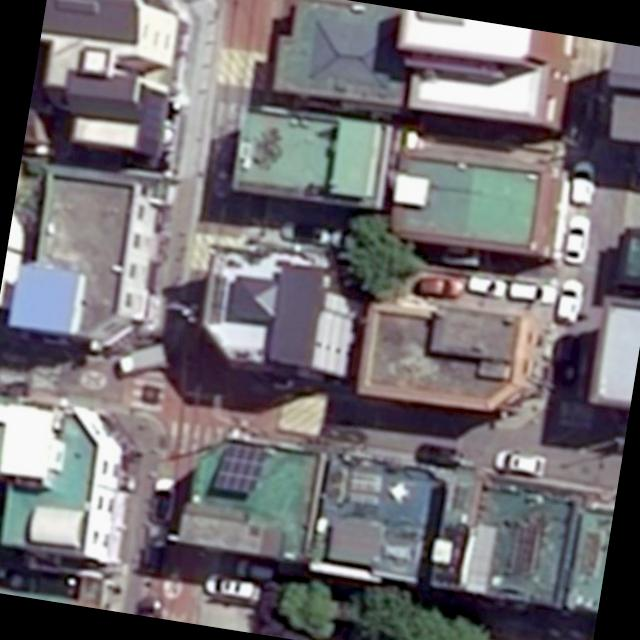solar: (210, 441, 270, 496)
